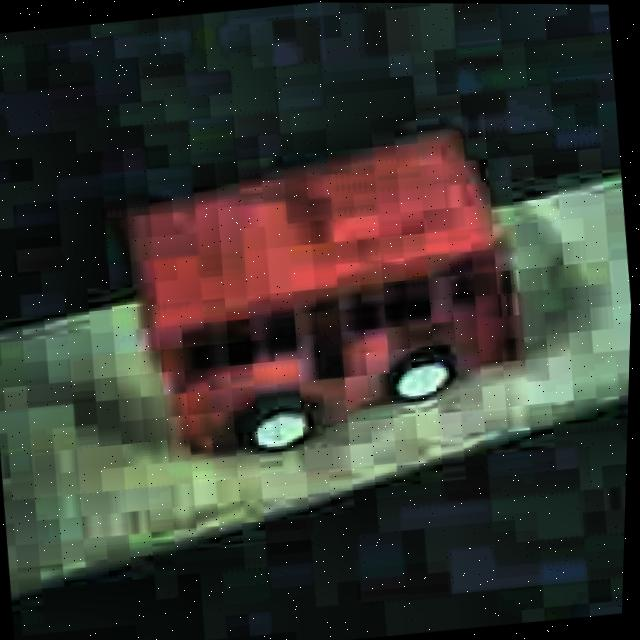bus: (113, 116, 537, 471)
